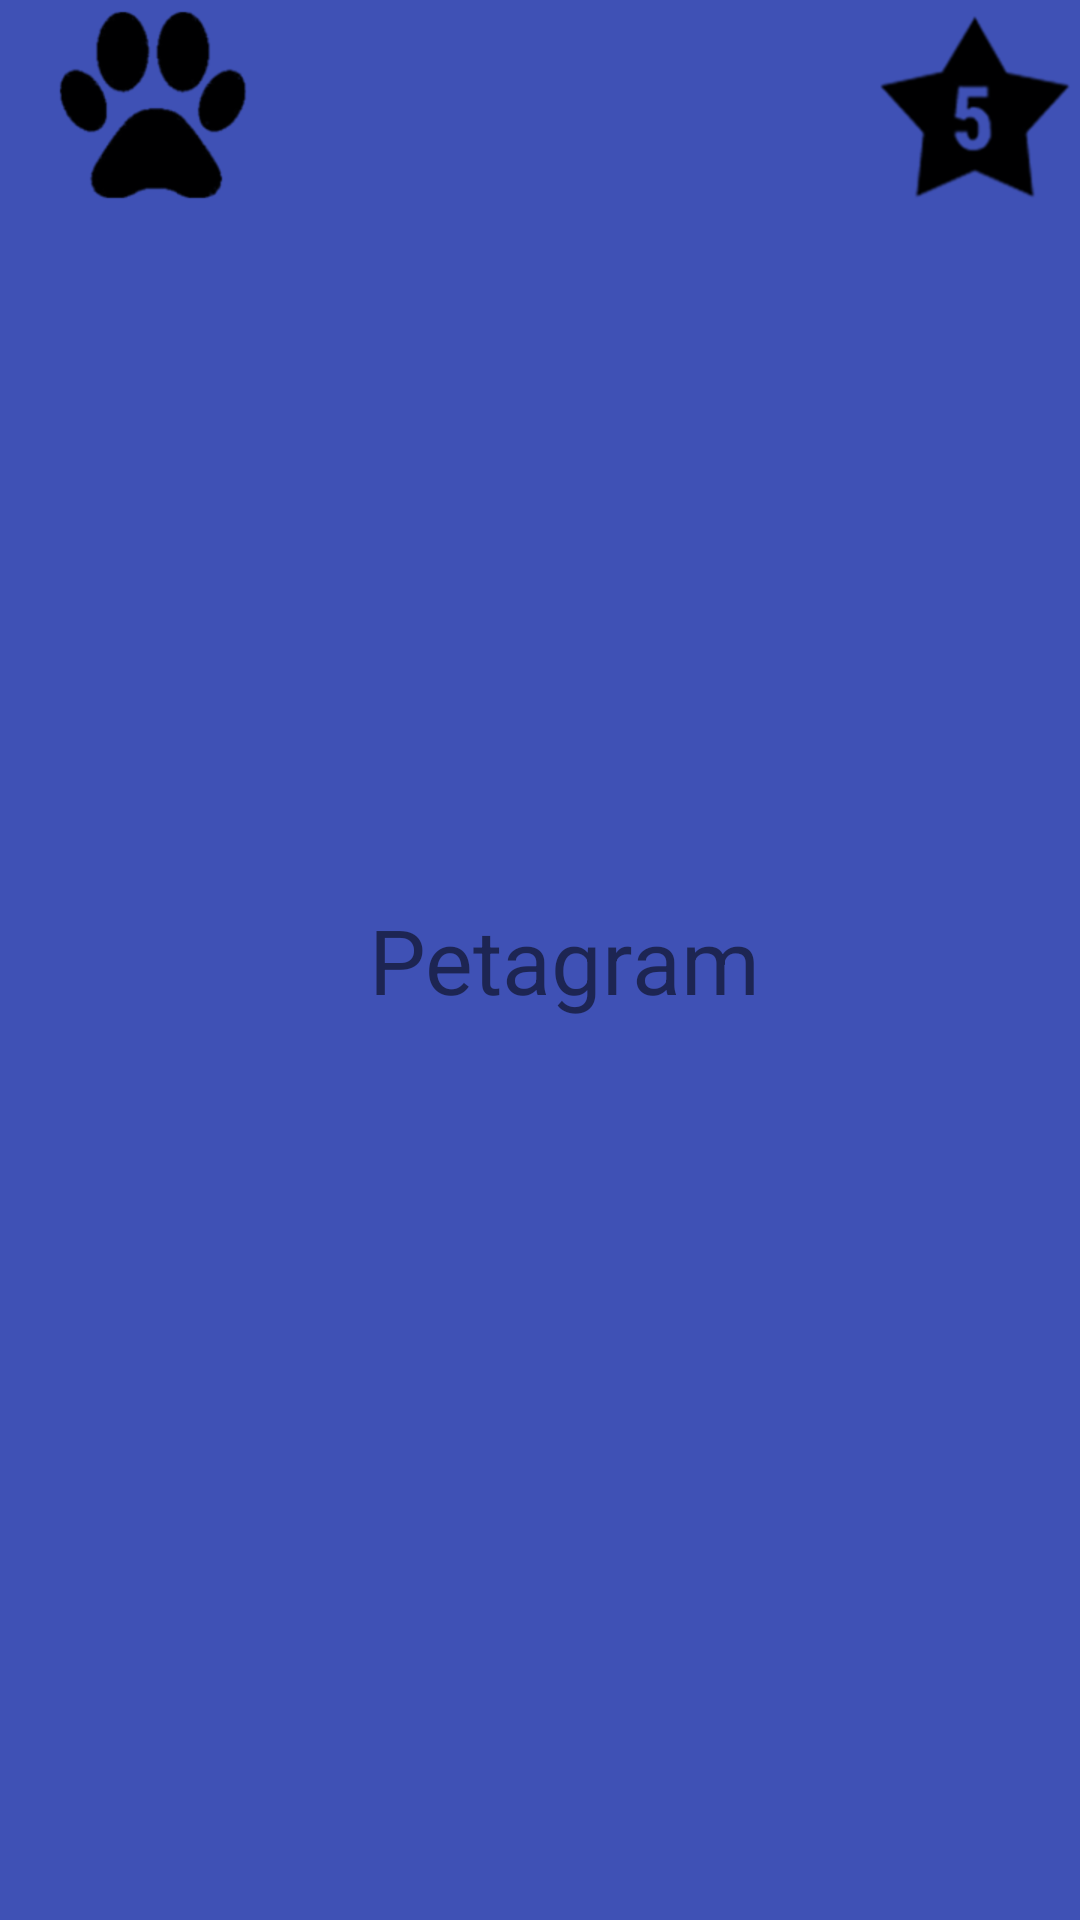

Screen size 1080x1920. Icon name, then its box in pixels as (x1, y1, x2, y2):
estrella: (881, 17, 1069, 197)
patita: (59, 11, 246, 199)
